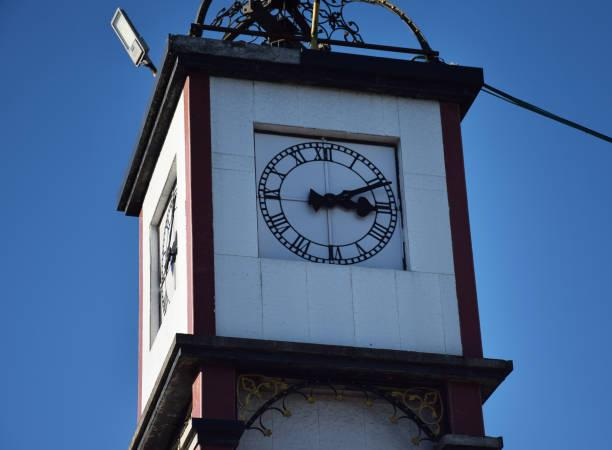clock: (254, 142, 402, 267), (145, 185, 184, 325)
